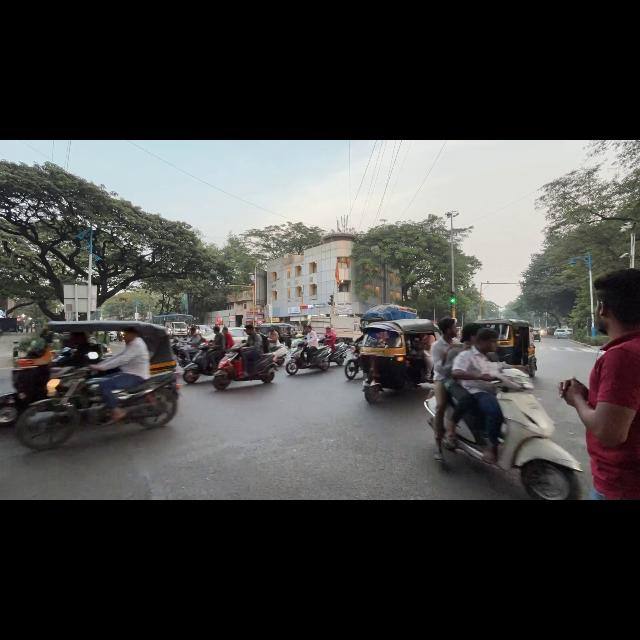bus: (153, 314, 193, 335)
car: (228, 328, 247, 344), (554, 329, 572, 339), (196, 325, 212, 336), (108, 331, 117, 340)
motorcycle: (492, 369, 581, 499), (16, 369, 111, 450), (213, 344, 276, 389), (183, 343, 223, 383), (285, 342, 330, 375), (172, 339, 198, 367), (345, 343, 361, 379), (329, 343, 348, 365), (270, 344, 288, 365)
truck: (308, 316, 361, 342)
